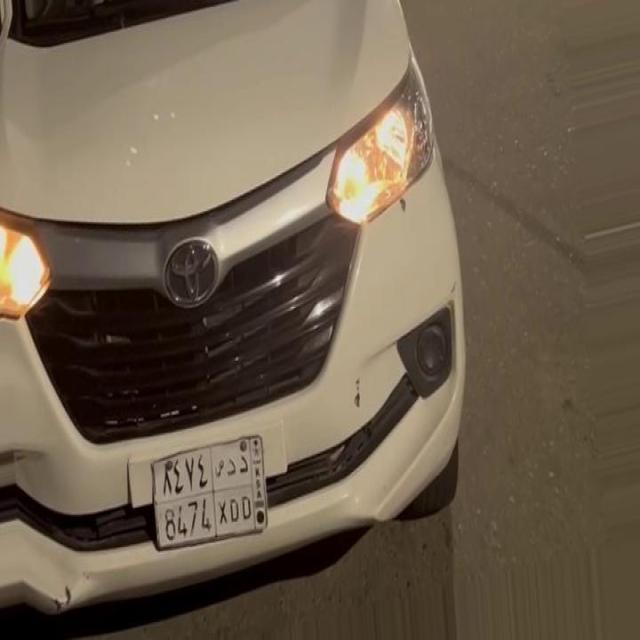Car-plate: (141, 413, 276, 578)
